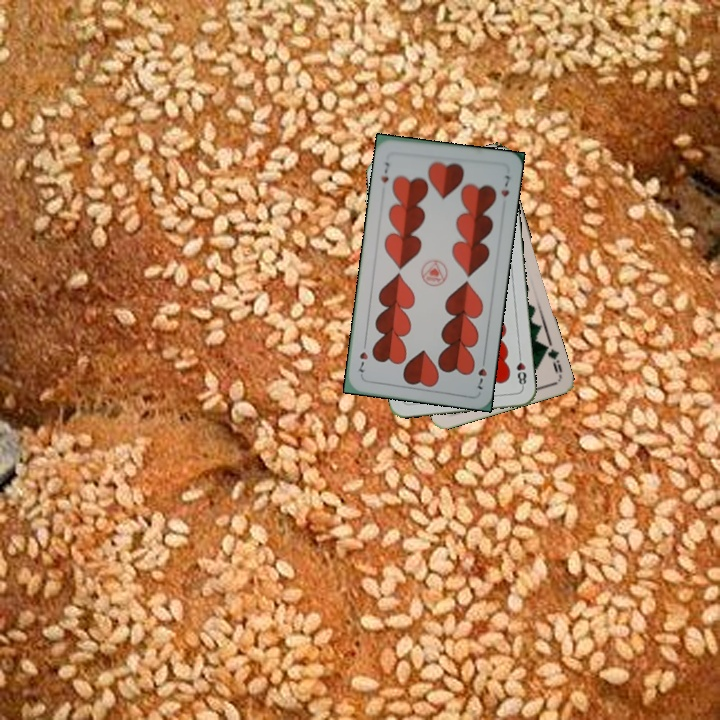G9: (539, 338, 565, 378)
H7: (473, 353, 490, 392), (377, 158, 392, 185)
H8: (512, 349, 529, 390)
